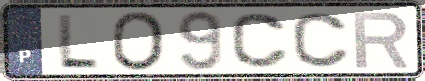9: (174, 8, 225, 74)
C: (289, 11, 354, 70), (228, 11, 292, 70)
L: (55, 12, 102, 71)
O: (110, 10, 168, 73)
R: (351, 9, 412, 70)
